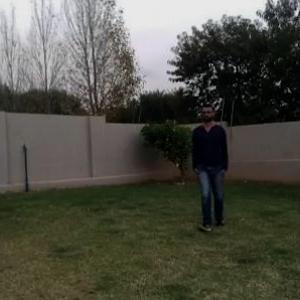follow: (196, 105, 226, 226)
